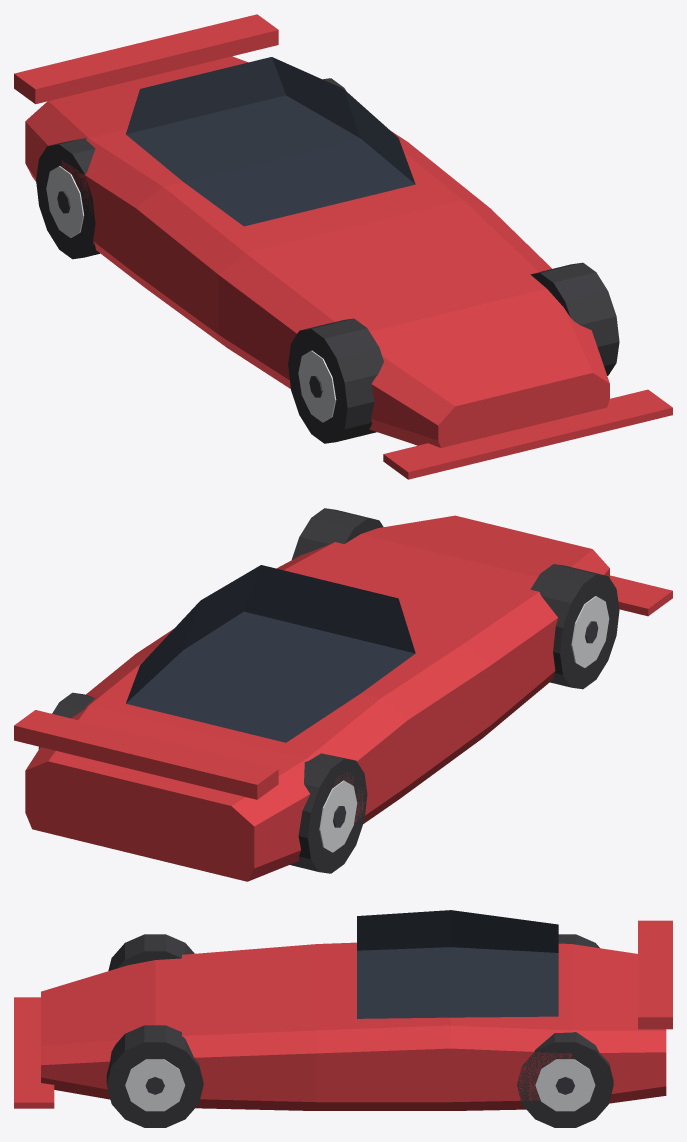
File: racecar3.glb
3 renders of one model, top to bottom at view 1: azimuth 30°, elevation 25°; view 2: azimuth 150°, elevation 25°; view 3: azimuth 270°, elevation 25°, orthographic. The views are drawn at different scales.
Parts seen in each view (by area): view 1: body, glass_canopy, duck, wheel_front_L, splitter, wheel_rear_L, wheel_front_R; view 2: body, glass_canopy, duck, wheel_front_L, wheel_rear_L, wheel_front_R, splitter, wheel_rear_R; view 3: body, glass_canopy, wheel_front_R, wheel_rear_R, duck, splitter, wheel_front_L, wheel_rear_L.
Part boxes in pixels (x1=…): body: x1=25, y1=56, x2=609, y2=447; glass_canopy: x1=126, y1=57, x2=415, y2=226; duck: x1=14, y1=14, x2=278, y2=104; wheel_front_L: x1=288, y1=318, x2=383, y2=443; splitter: x1=383, y1=389, x2=672, y2=479; wheel_rear_L: x1=36, y1=138, x2=99, y2=259; wheel_front_R: x1=530, y1=262, x2=619, y2=375; body: x1=25, y1=515, x2=609, y2=881; glass_canopy: x1=126, y1=565, x2=415, y2=742; duck: x1=14, y1=710, x2=278, y2=799; wheel_front_L: x1=530, y1=564, x2=619, y2=689; wheel_rear_L: x1=290, y1=753, x2=367, y2=873; wheel_front_R: x1=291, y1=508, x2=383, y2=559; splitter: x1=610, y1=575, x2=672, y2=616; wheel_rear_R: x1=38, y1=692, x2=95, y2=749; body: x1=41, y1=942, x2=666, y2=1110; glass_canopy: x1=357, y1=910, x2=558, y2=1018; wheel_front_R: x1=106, y1=1025, x2=203, y2=1127; wheel_rear_R: x1=517, y1=1032, x2=613, y2=1127; duck: x1=638, y1=920, x2=672, y2=1029; splitter: x1=14, y1=997, x2=54, y2=1108; wheel_front_L: x1=108, y1=934, x2=194, y2=970; wheel_rear_L: x1=558, y1=934, x2=599, y2=948.
Bounding box in the file's own units: 1.94 × 1.11 × 4.9.
